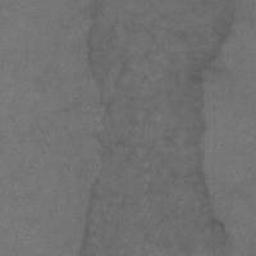Water spot: (77, 0, 239, 255)
